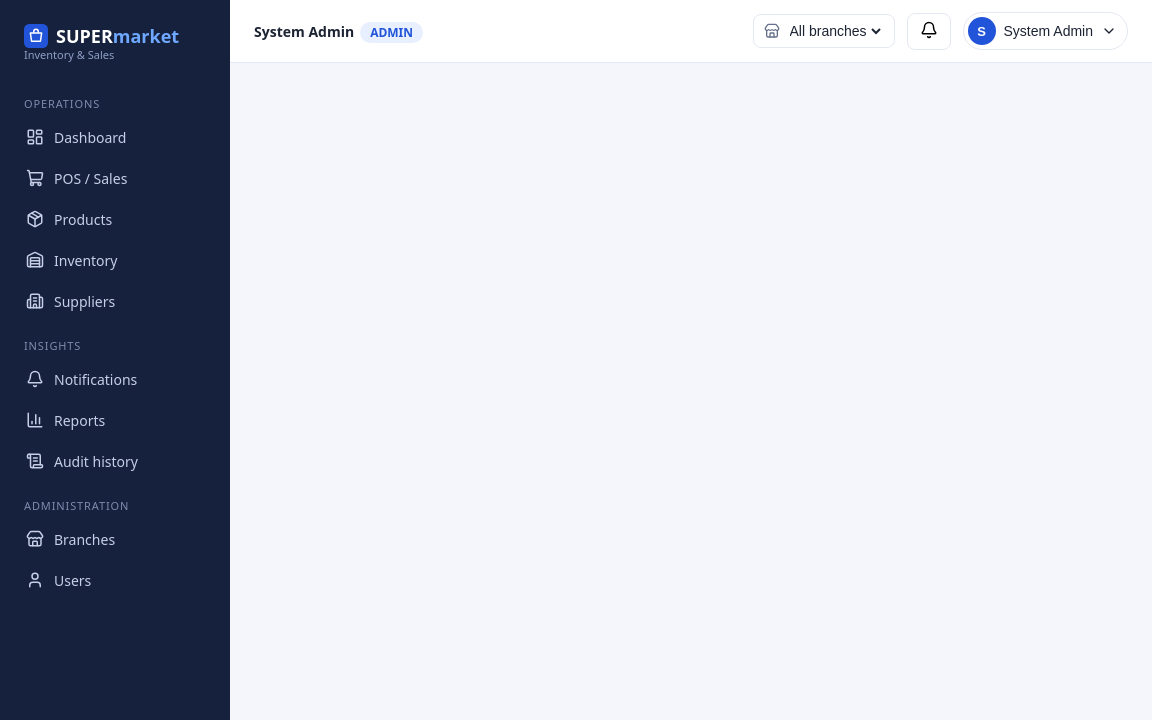
Layout shell › opens the profile dropdown and closes it on Escape
This screenshot has width=1152, height=720.
Click the button "S System Admin" at x=1045, y=31, box 962,12 -> 1128,50
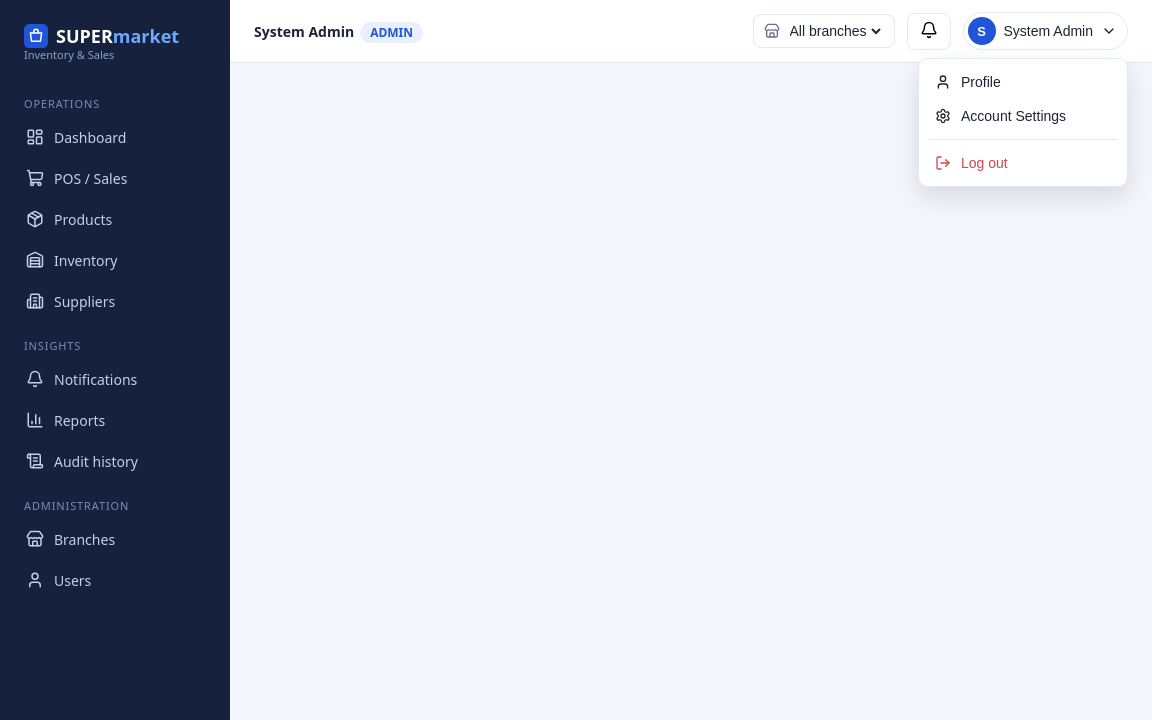
Now the button "Account Settings" is shown, box 925,99 -> 1121,133
Now the button "Log out" is shown, box 925,146 -> 1121,180
Press Escape
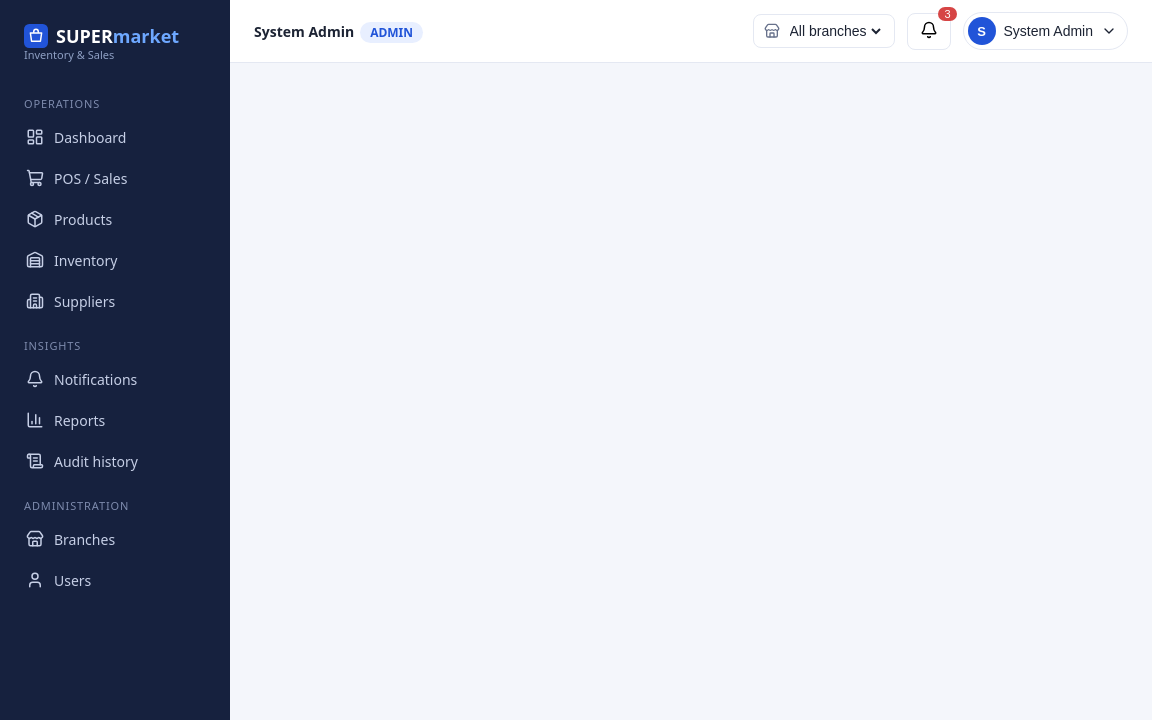
Now the button "Account Settings" is gone
